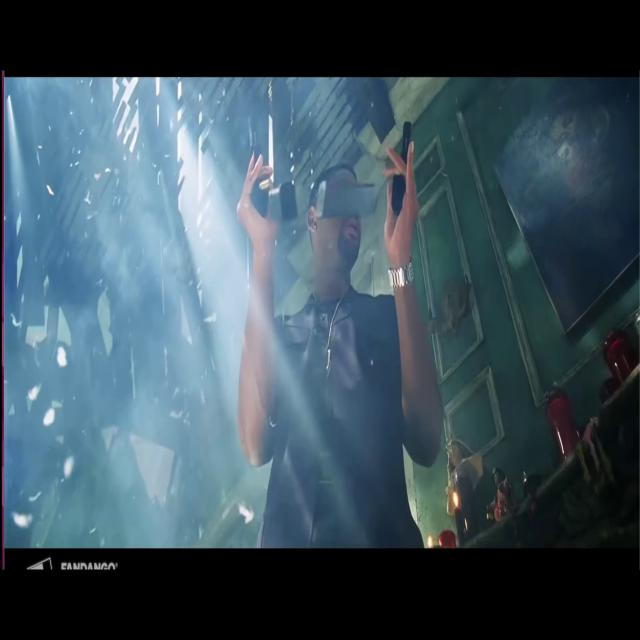weapons: (232, 96, 283, 234), (377, 102, 423, 230)
